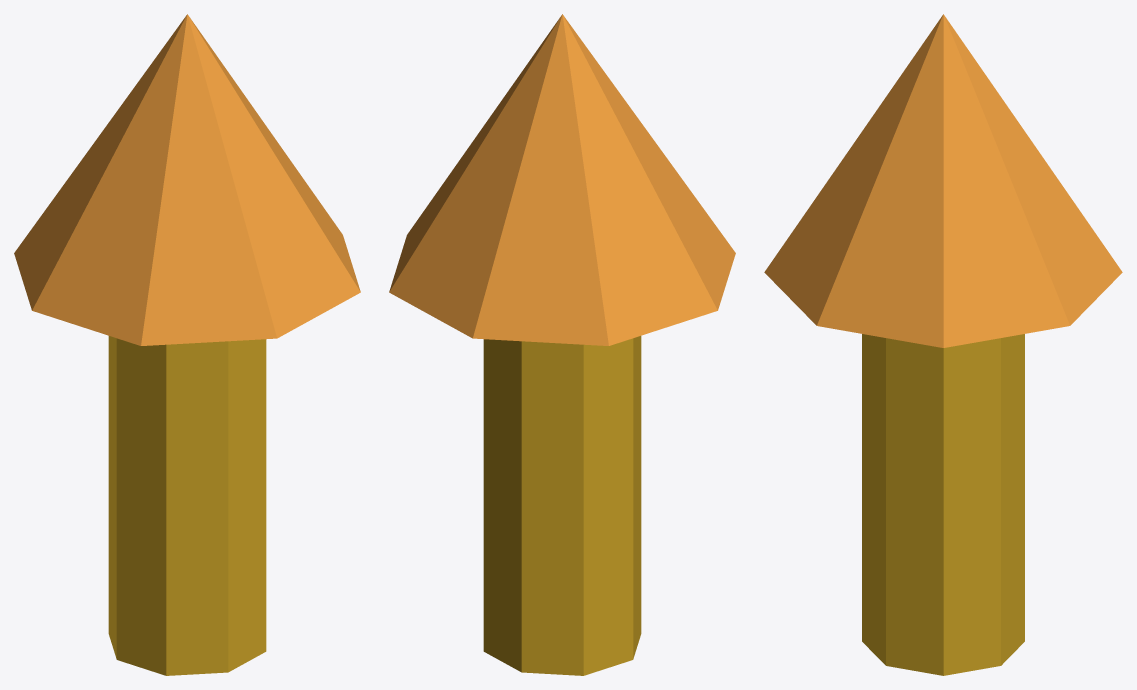
Rendered from arrow3d.glb.
The picture shows the model from 3 angles, left to right: view 1: azimuth 30°, elevation 25°; view 2: azimuth 150°, elevation 25°; view 3: azimuth 270°, elevation 25°; orthographic projection.
Parts seen in each view (by area): view 1: arrow3d; view 2: arrow3d; view 3: arrow3d.
Boxes of the visible parts, x1=… form: arrow3d: x1=14, y1=14, x2=360, y2=675; arrow3d: x1=389, y1=14, x2=735, y2=675; arrow3d: x1=764, y1=14, x2=1122, y2=675.
Bounding box in the file's own units: 0.44 × 0.85 × 0.44.
Materials: 1 (1 with a texture image).
